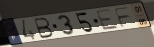3: (57, 14, 77, 37)
4: (21, 18, 38, 42)
5: (75, 12, 95, 33)
B: (33, 17, 55, 40)
E: (94, 8, 120, 32)
F: (113, 6, 132, 29)
